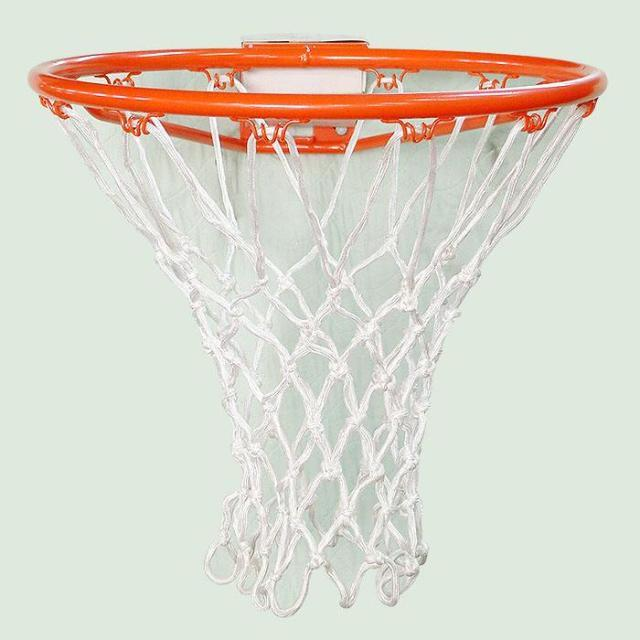rim: (28, 40, 608, 616)
